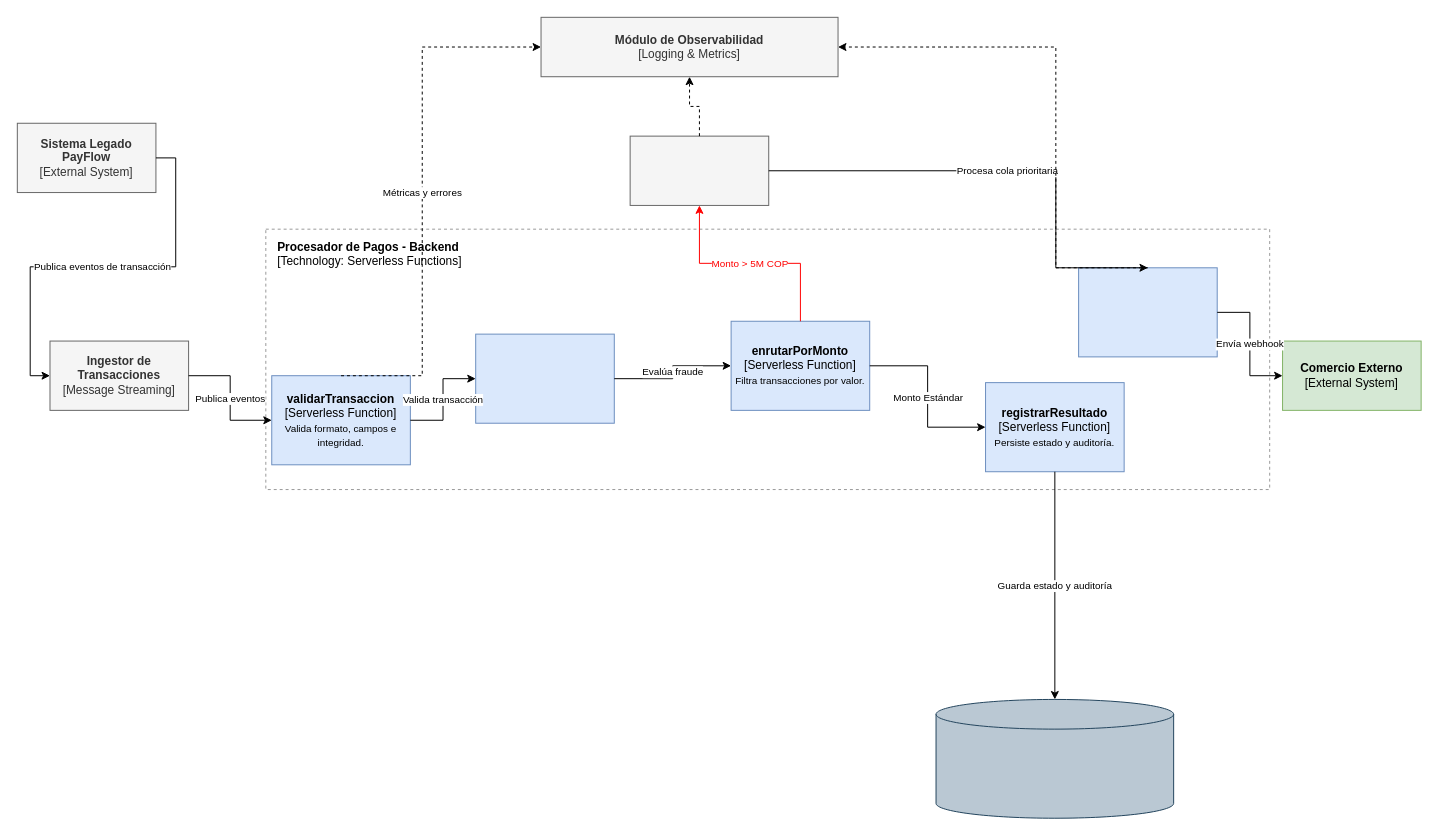
Some shapes in this 1438 by 836 pixel diagram are drawn without their labels. The shapes that lost their labels are listed below. From the top down, each one's centre as x and y in pixels, then its label:
At [699,170]: "Gestor de Alta Prioridad [Message Queue]".
At [1147,312]: "notificarComercio [Serverless Function] Envía webhooks asíncronos.".
At [544,378]: "evaluarFraude [Serverless Function] Validación antifraude en tiempo real.".
At [1054,758]: "Almacen de transaciones [Container: Database container]".
